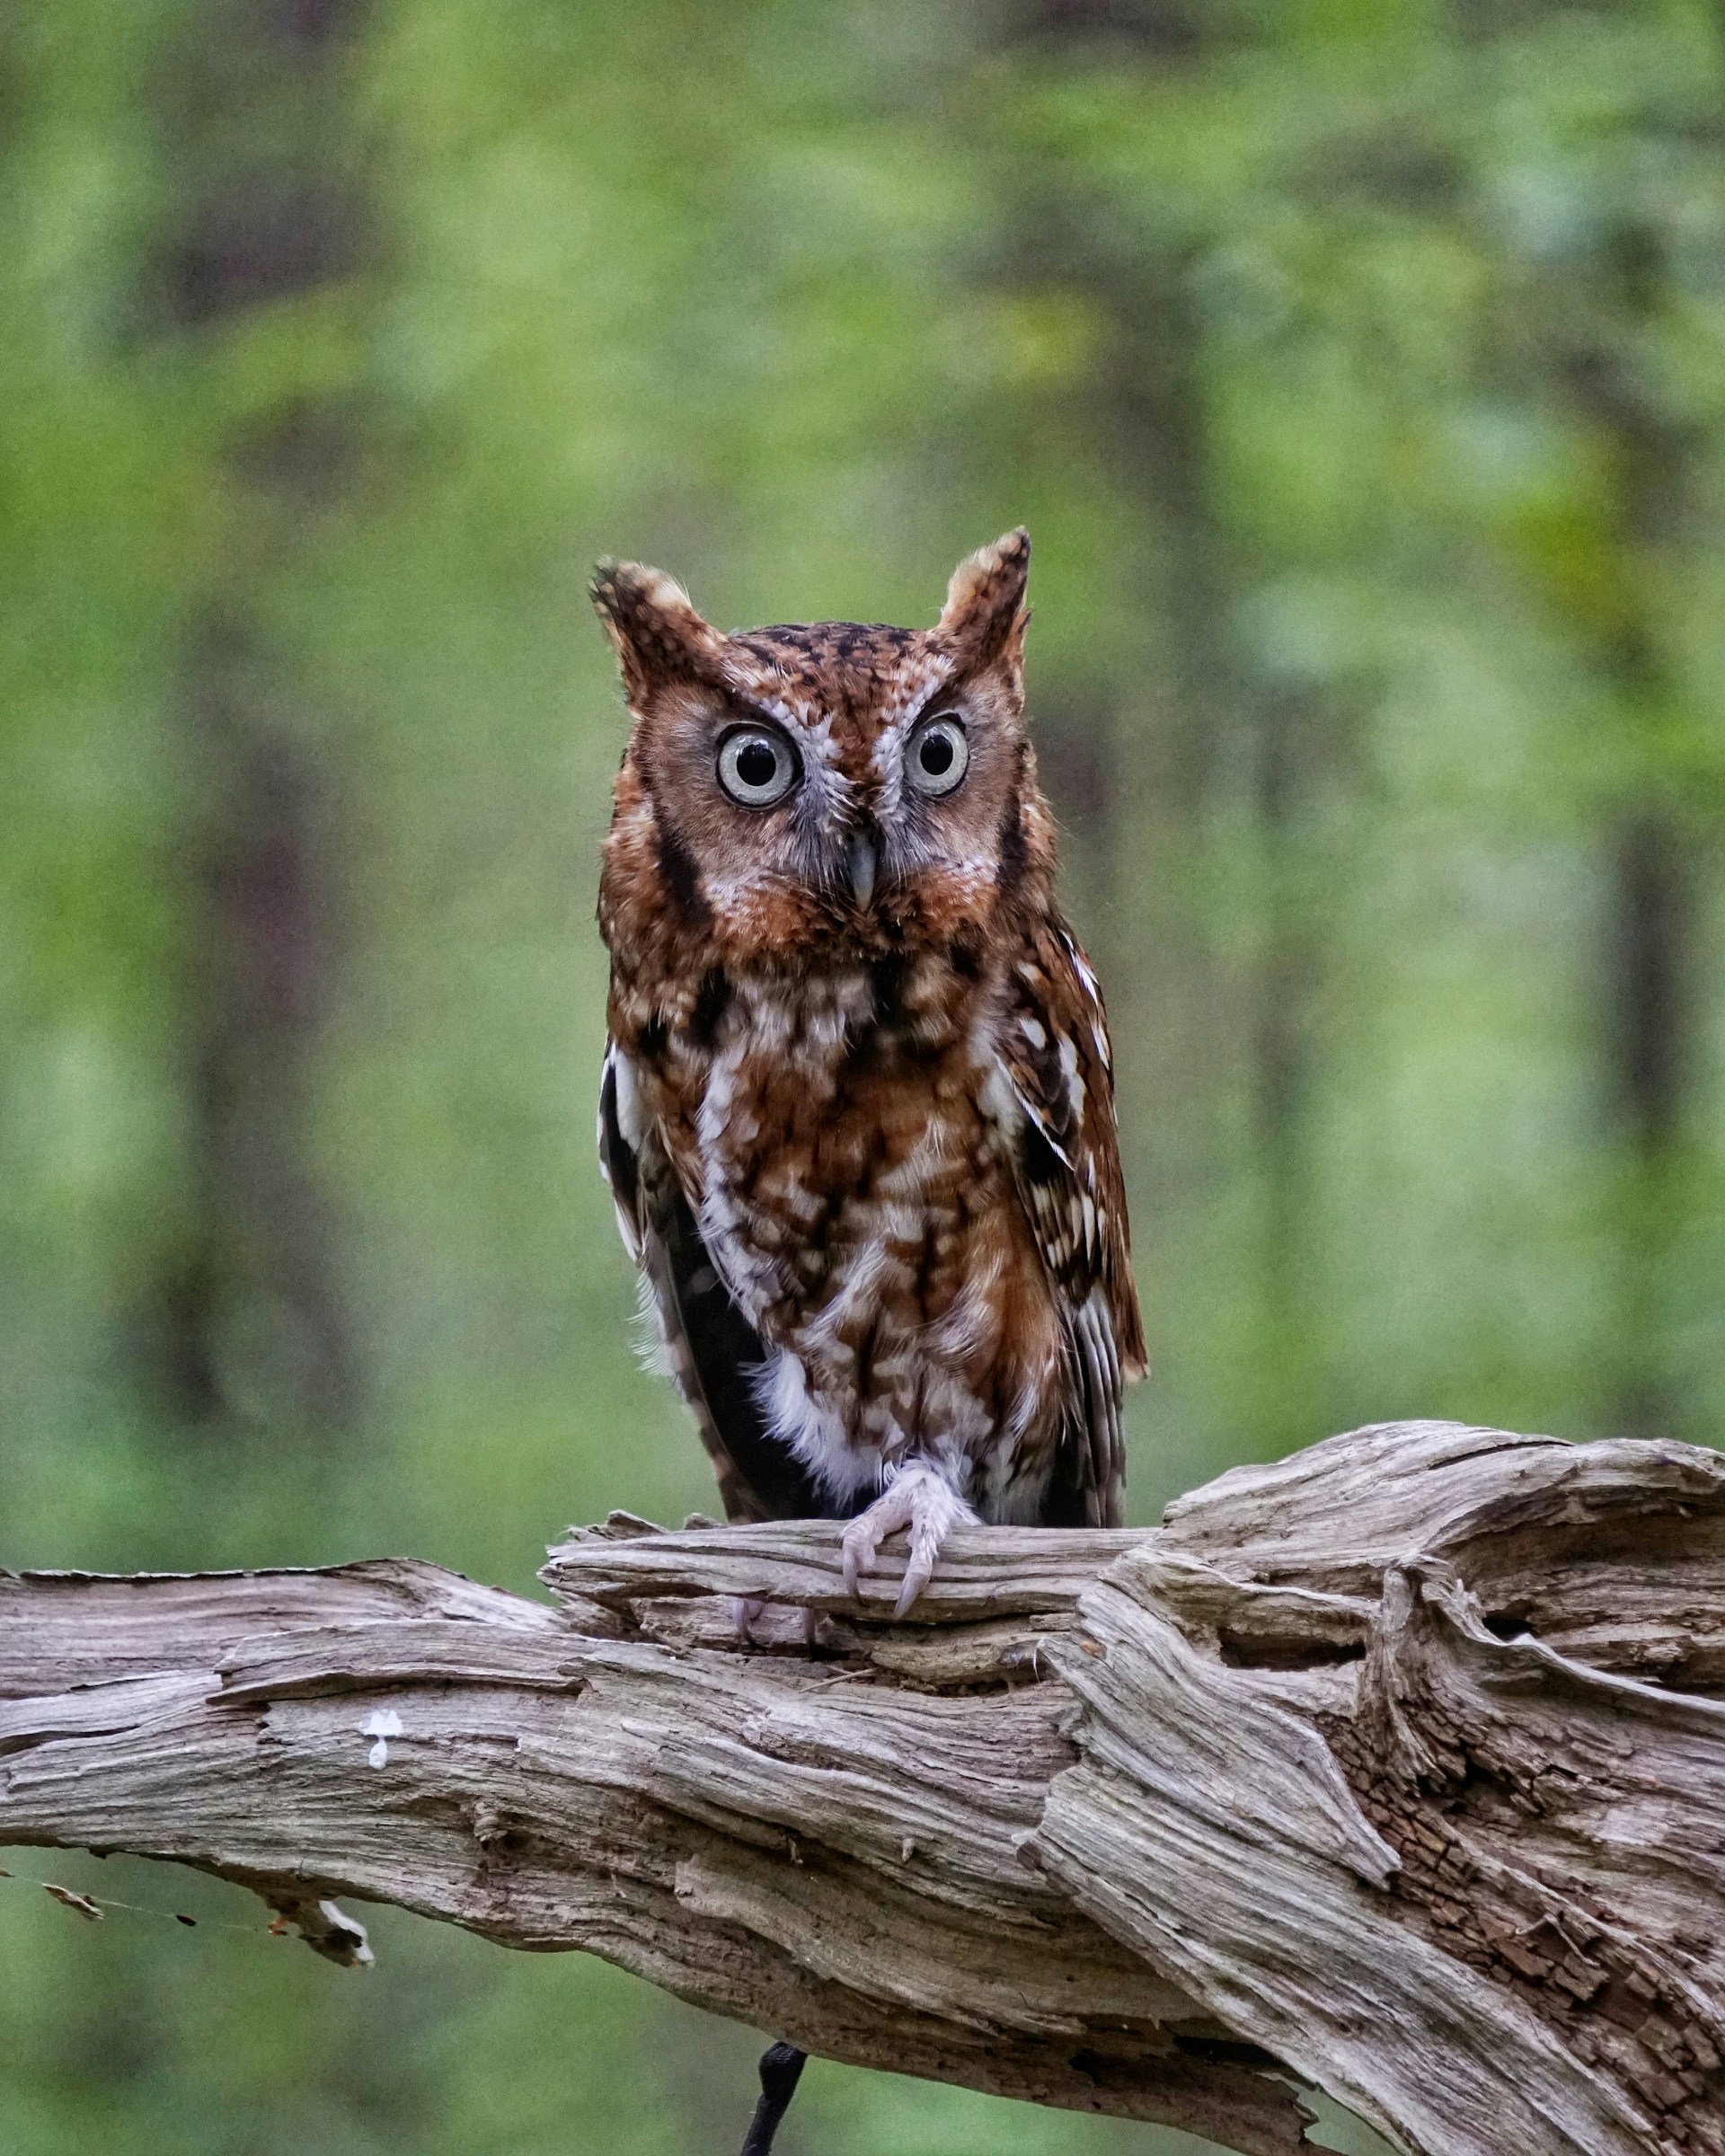owl: (525, 510, 1250, 1660)
